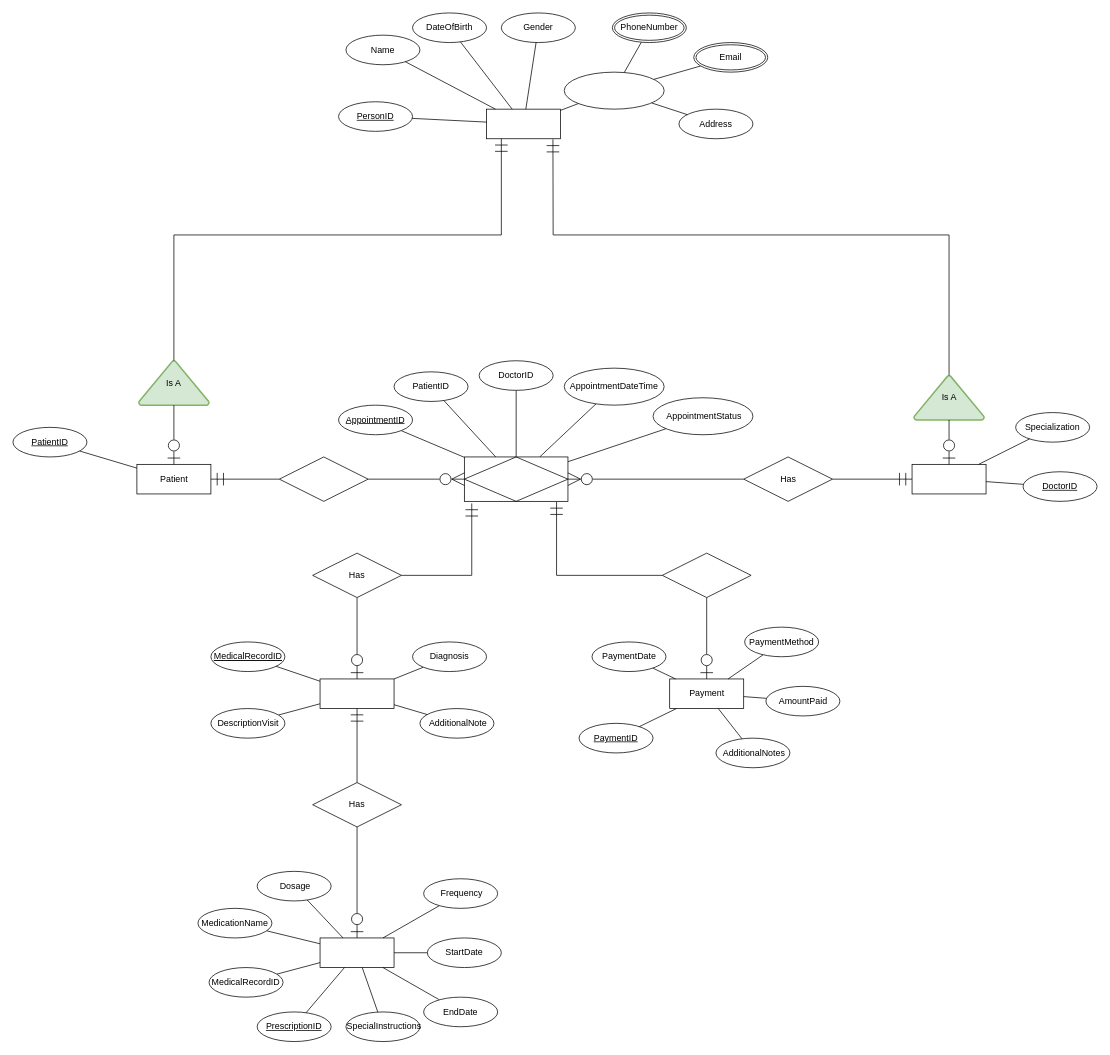
The diagram is 1110 pixels wide and 1055 high, and some of its shapes have lost their labels. The shapes that lost their labels are listed below. From the top down, each one's centre as x and y in pixels, then its label:
the point at 614,90: ( ContactInformation )
the point at 523,123: Person
the point at 323,478: Booking
the point at 516,478: Appointment
the point at 948,479: Doctor
the point at 706,575: Is per
the point at 356,693: Medical Record
the point at 356,952: Prescription
